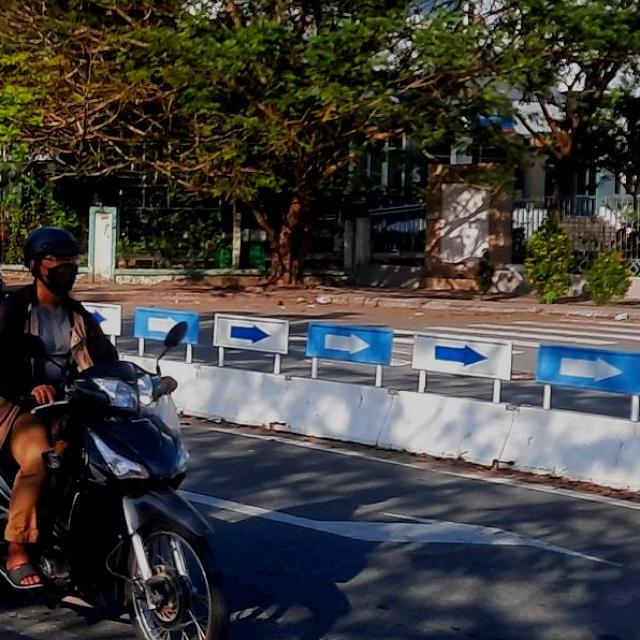Helmet: (23, 227, 82, 296)
